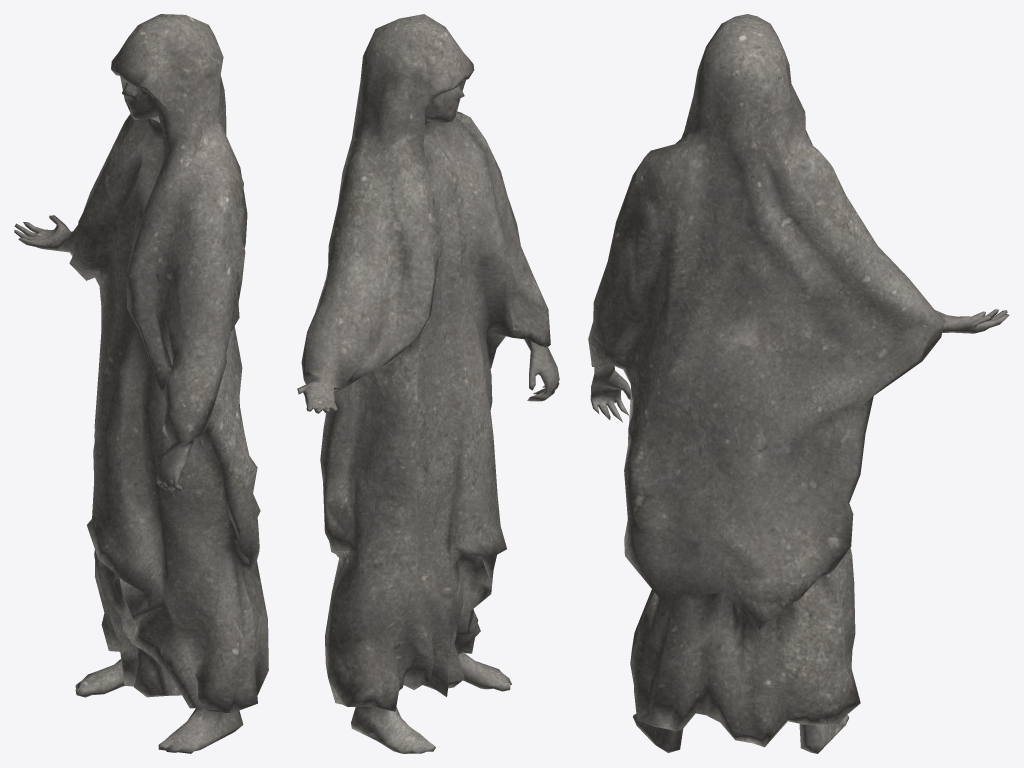
The model's file is SM_Statue_1.fbx.
3 renders of one model, left to right at view 1: azimuth 30°, elevation 25°; view 2: azimuth 150°, elevation 25°; view 3: azimuth 270°, elevation 25°, orthographic. The views are drawn at different scales.
Visible parts, largest first — view 1: SM_Statue_1_LOD0; view 2: SM_Statue_1_LOD0; view 3: SM_Statue_1_LOD0.
Boxes of the visible parts, bbox=[...] form: SM_Statue_1_LOD0: bbox=[14, 14, 268, 753]; SM_Statue_1_LOD0: bbox=[297, 14, 559, 753]; SM_Statue_1_LOD0: bbox=[588, 14, 1009, 753].
Size of the model in its own units: 61.34 by 146 by 276.
